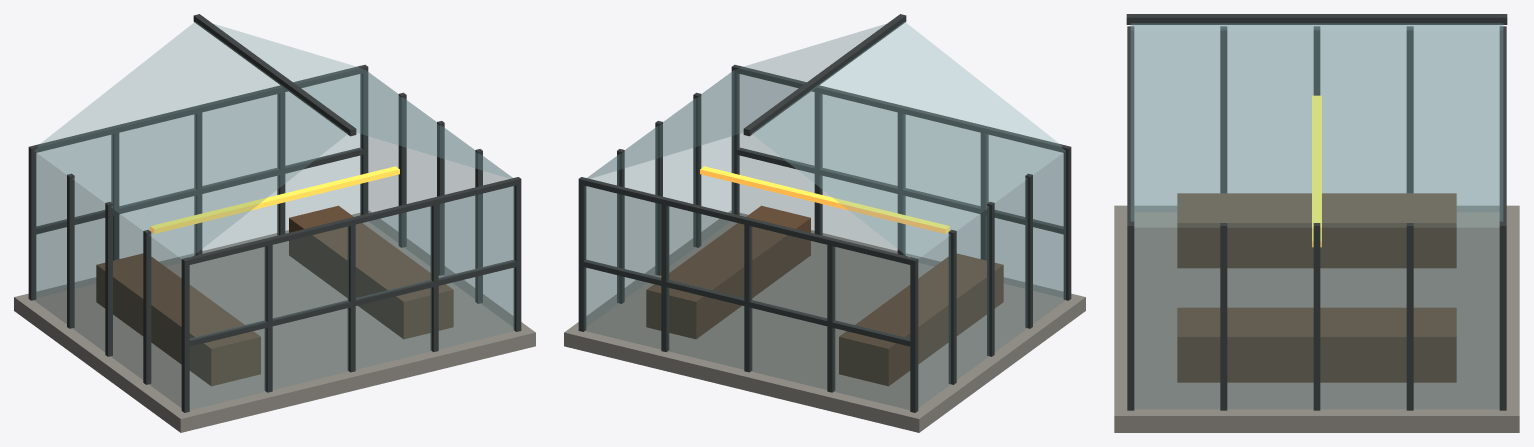
The model's file is building-glass-greenhouse.glb.
3 renders of one model, left to right at view 1: azimuth 30°, elevation 25°; view 2: azimuth 150°, elevation 25°; view 3: azimuth 270°, elevation 25°, orthographic. The views are drawn at different scales.
Visible parts, largest first — view 1: building-glass-greenhouse; view 2: building-glass-greenhouse; view 3: building-glass-greenhouse.
Part boxes in pixels (<box>): building-glass-greenhouse: <box>14,14,535,432</box>; building-glass-greenhouse: <box>564,14,1085,432</box>; building-glass-greenhouse: <box>1114,14,1519,432</box>.
Size of the model in its own units: 5.35 by 3.73 by 4.35.
